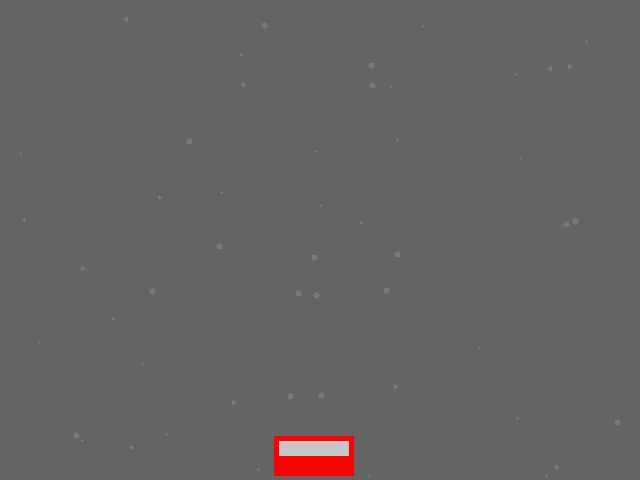car: (274, 436, 353, 475)
